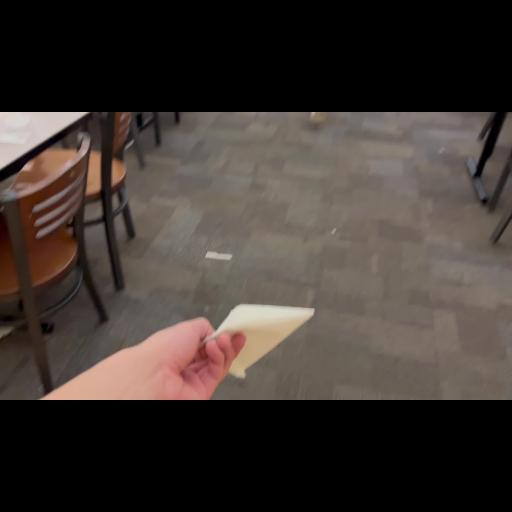napkin: (190, 290, 316, 396)
